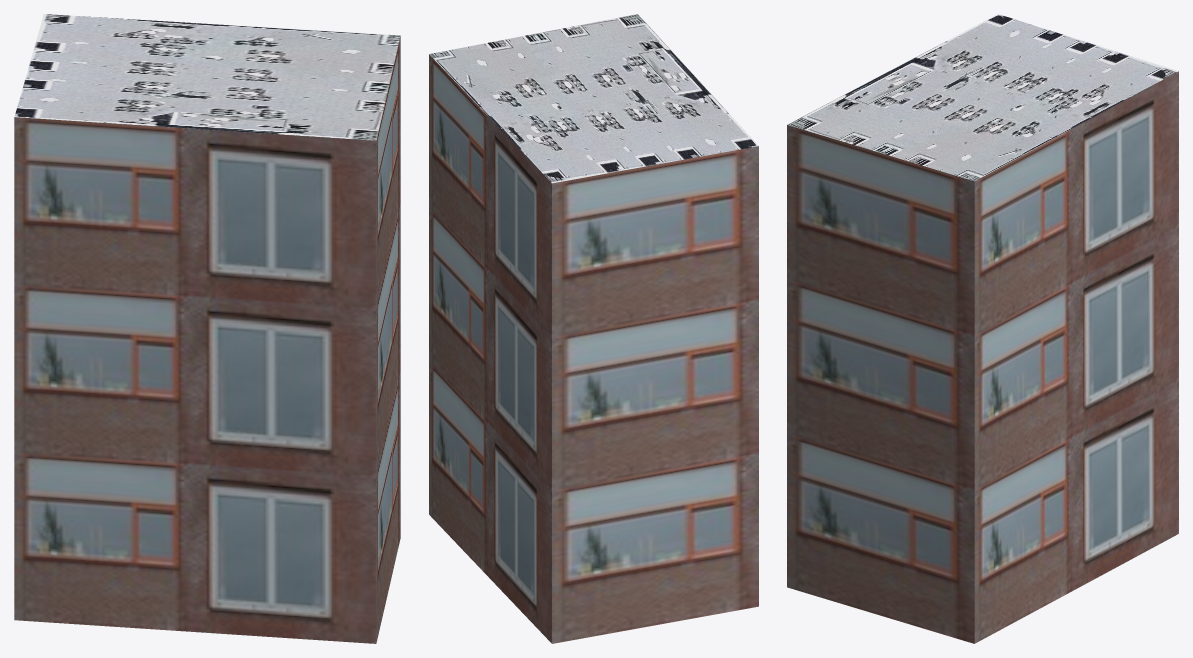
File: ResTex__4619.fbx
3 renders of one model, left to right at view 1: azimuth 30°, elevation 25°; view 2: azimuth 150°, elevation 25°; view 3: azimuth 270°, elevation 25°, orthographic. The views are drawn at different scales.
Visible parts, largest first — view 1: CityEngineMaterial_19_m, CityEngineMaterial_2_m; view 2: CityEngineMaterial_19_m, CityEngineMaterial_2_m; view 3: CityEngineMaterial_19_m, CityEngineMaterial_2_m.
Part boxes in pixels (box(x1,y1,x2,y2)): CityEngineMaterial_19_m: box(14, 36, 400, 643); CityEngineMaterial_2_m: box(14, 14, 400, 140); CityEngineMaterial_19_m: box(429, 54, 758, 643); CityEngineMaterial_2_m: box(429, 14, 758, 183); CityEngineMaterial_19_m: box(787, 71, 1178, 643); CityEngineMaterial_2_m: box(787, 14, 1178, 181).
Bounding box in the file's own units: 6.99 × 9 × 6.91.
2 materials, 2 textured.
